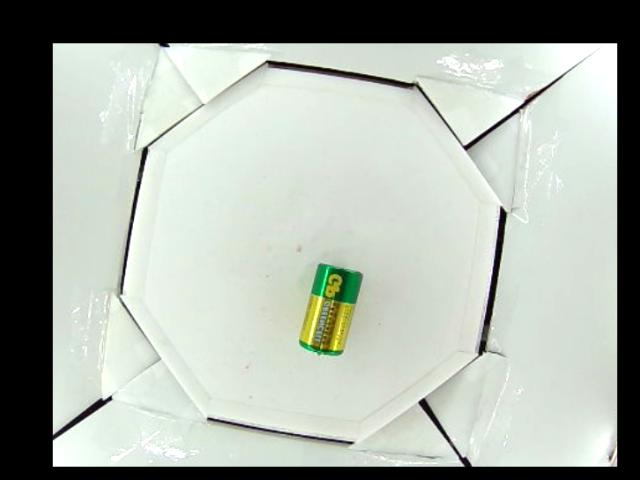Battery: (297, 261, 363, 357)
